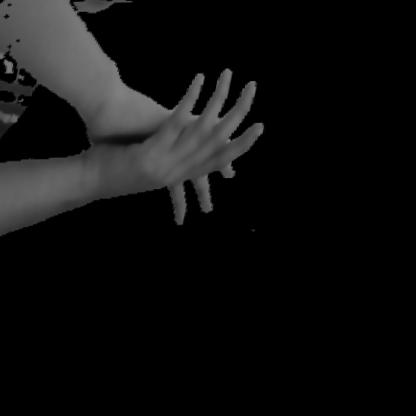clap: (38, 21, 291, 268)
